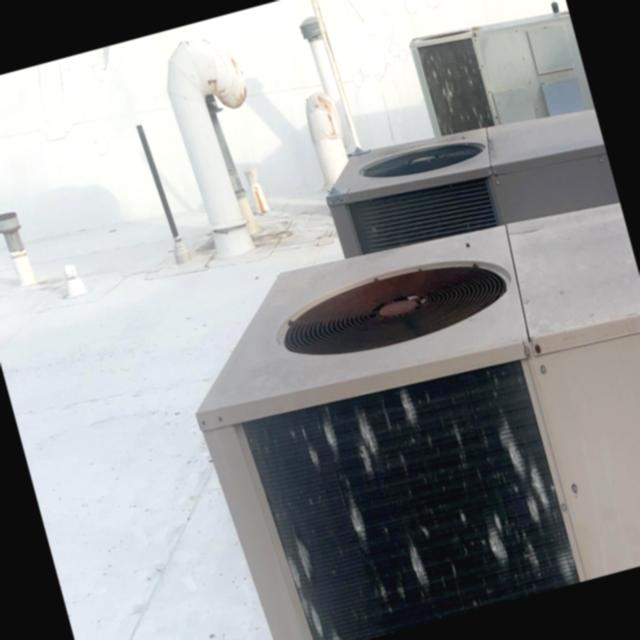GRAVITY-VENT: (151, 32, 292, 264), (291, 78, 361, 204)
RTU: (150, 172, 640, 640), (308, 78, 624, 294), (403, 0, 593, 147)
